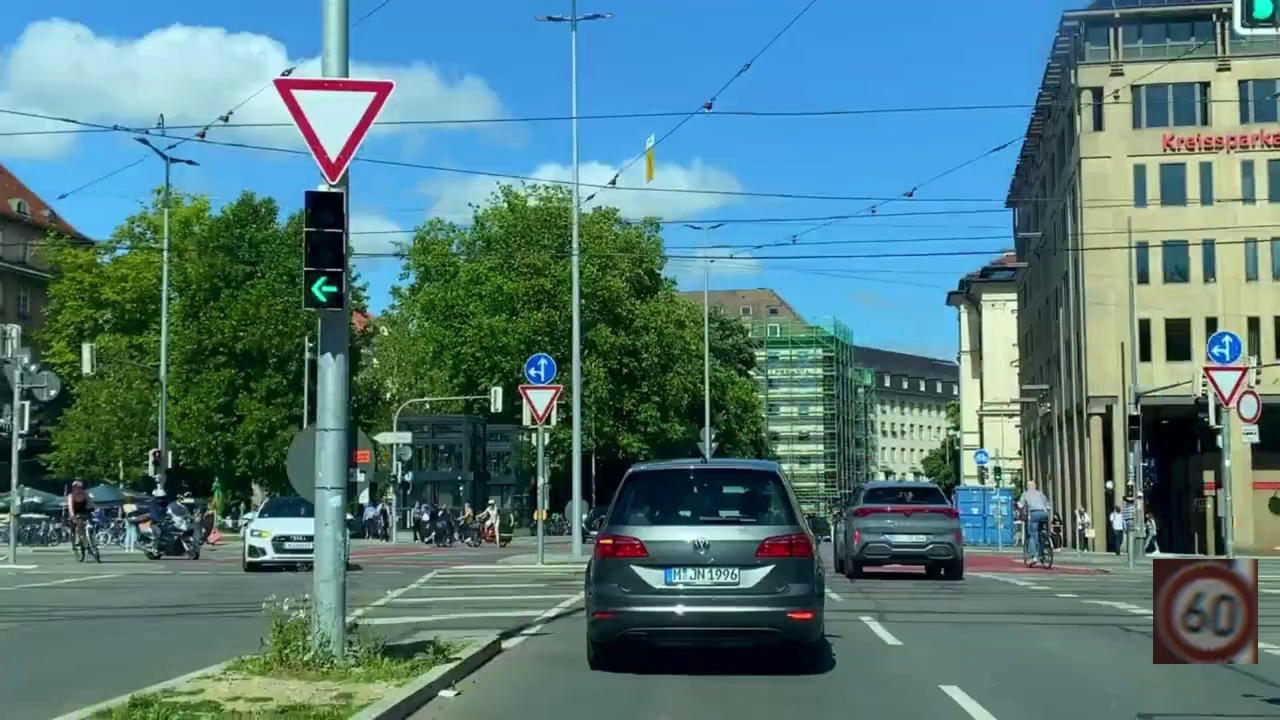Speed 60: (1153, 559, 1258, 664)
